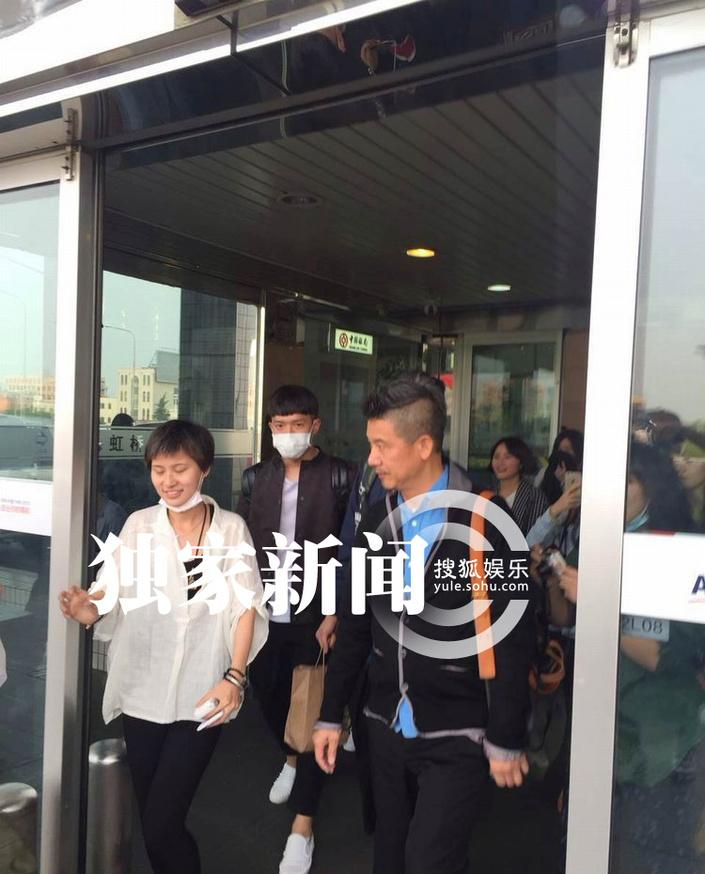face: (367, 414, 415, 489), (152, 448, 198, 507), (674, 441, 704, 486), (491, 444, 516, 478)
face_mask: (271, 409, 309, 456)
